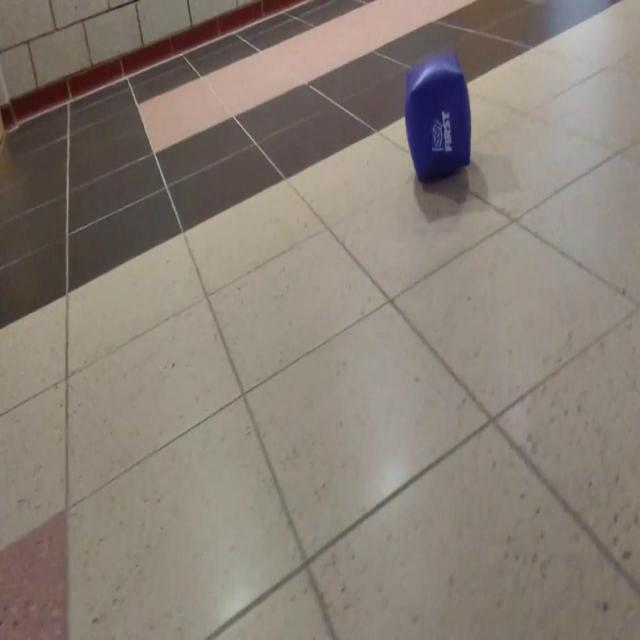frc_cube: (403, 52, 471, 186)
